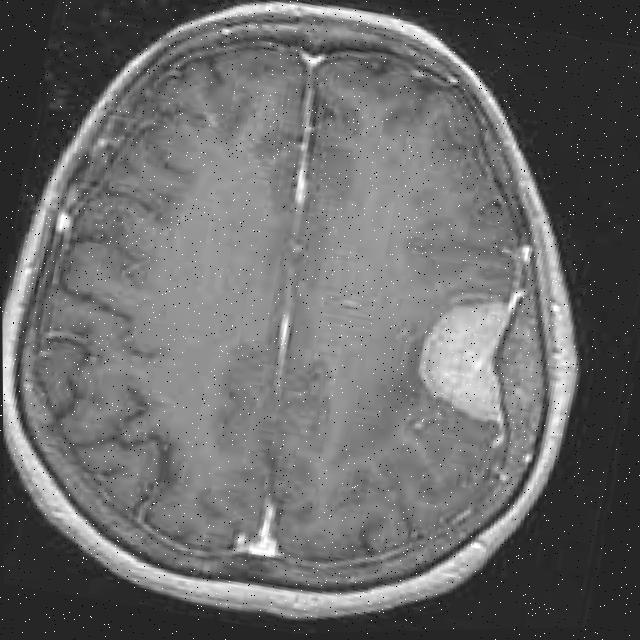Meningioma: (410, 272, 532, 432)
